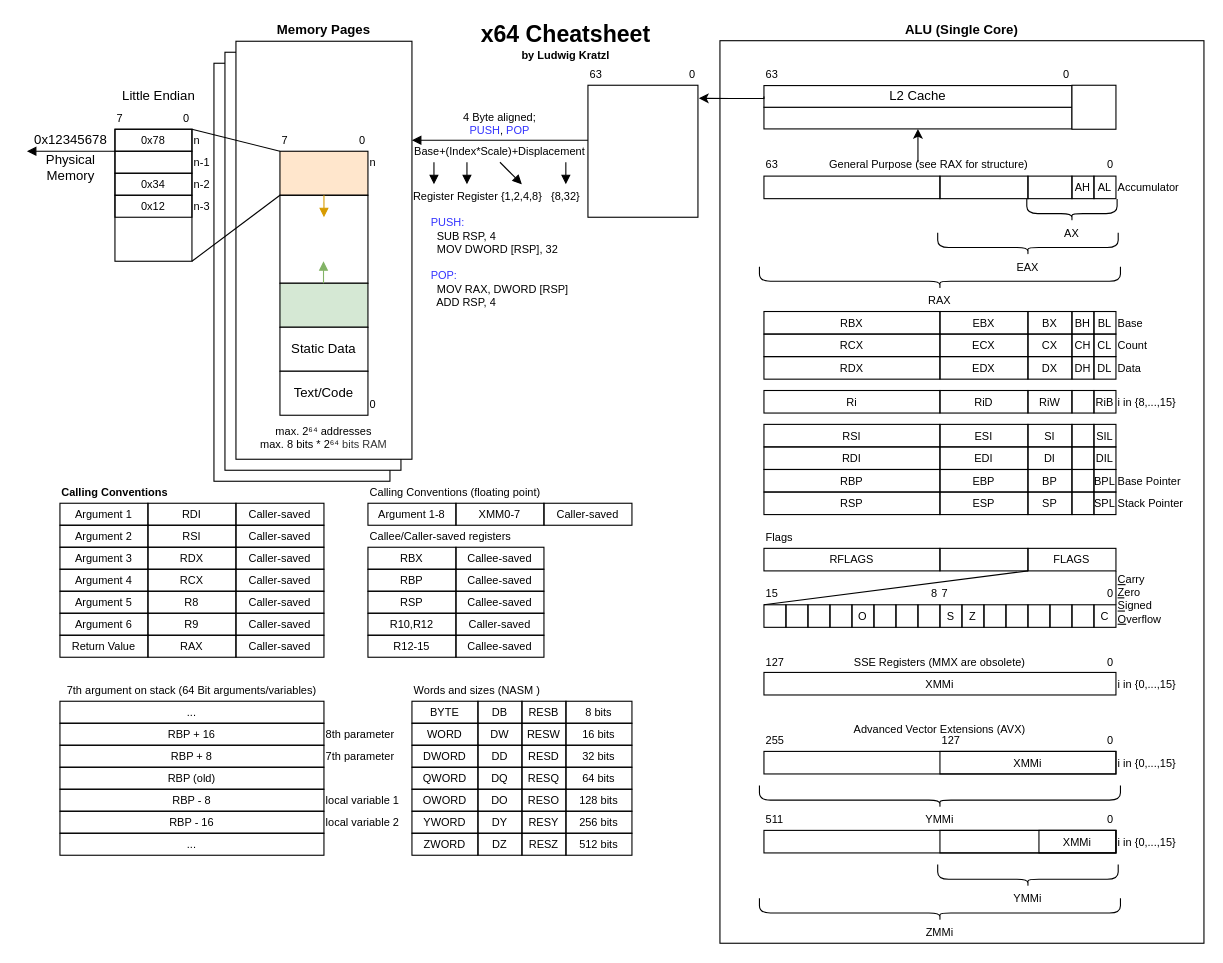
Image size: 1223x963. Some labels were removed from this diagram. The shapes that lost their labels are listed below. From the top down, each one's centre as x and y in pixels, then its label:
the point at 917,117: L1 Cache
the point at 1093,106: TLB
the point at 153,161: 0x56
the point at 642,150: Shared L3 Cache
the point at 323,172: Stack
the point at 323,304: Heap
the point at 983,559: EFLAGS
